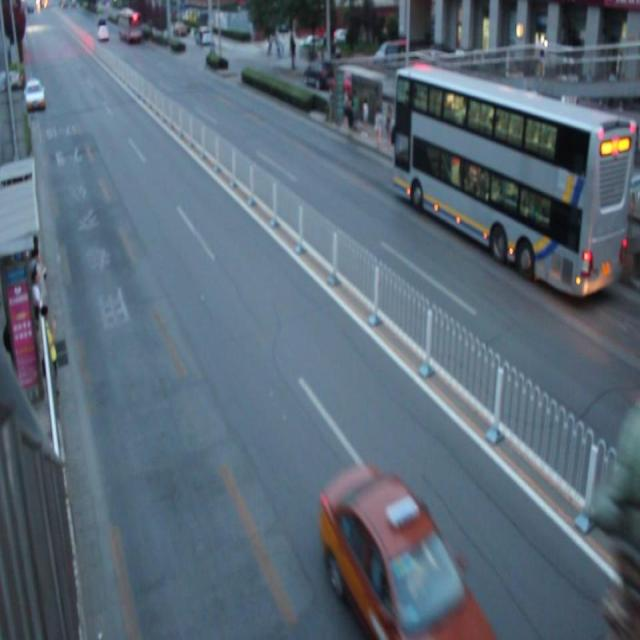car: (316, 466, 496, 640)
van: (390, 66, 629, 298)
